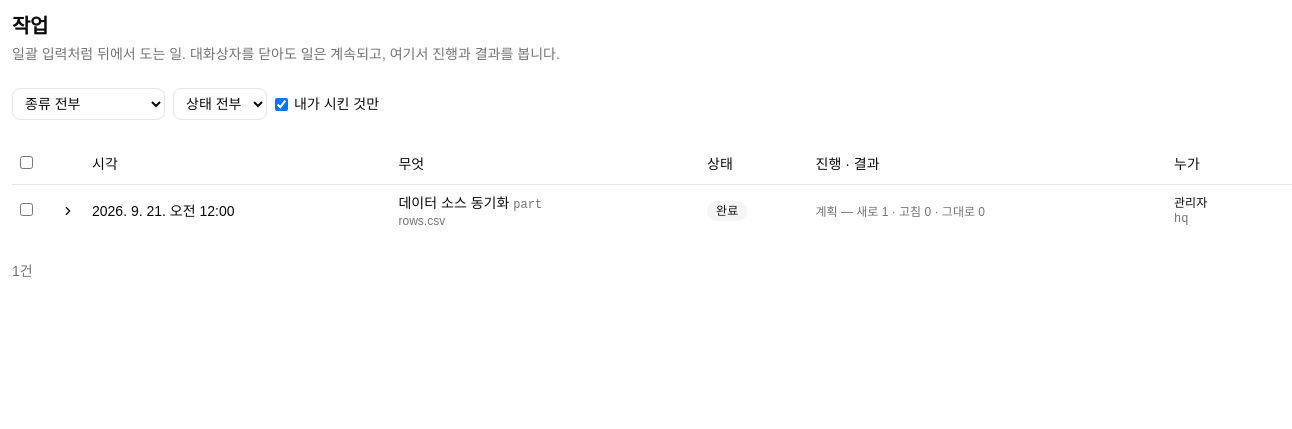
it: 작업 화면 › 적용 단계가 없는 종류(데이터 소스 동기화)의 계획에는 「적용」 을 안 세운다
Click the button named "펼치기" at (68, 210), box [52, 198, 84, 222]
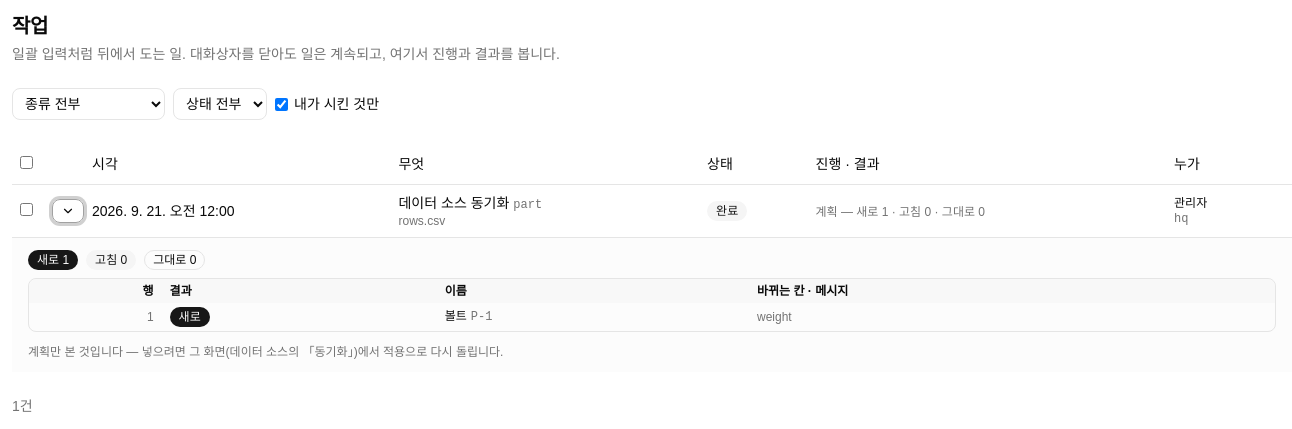
Result: the text "볼트" is shown at [445, 309, 467, 323]
Result: the text "계획만 본 것입니다 — 넣으려면 그 화면(데이터 소스의 「동기화」)에서 적용으로 다시 돌립니다." is shown at [28, 344, 504, 360]
